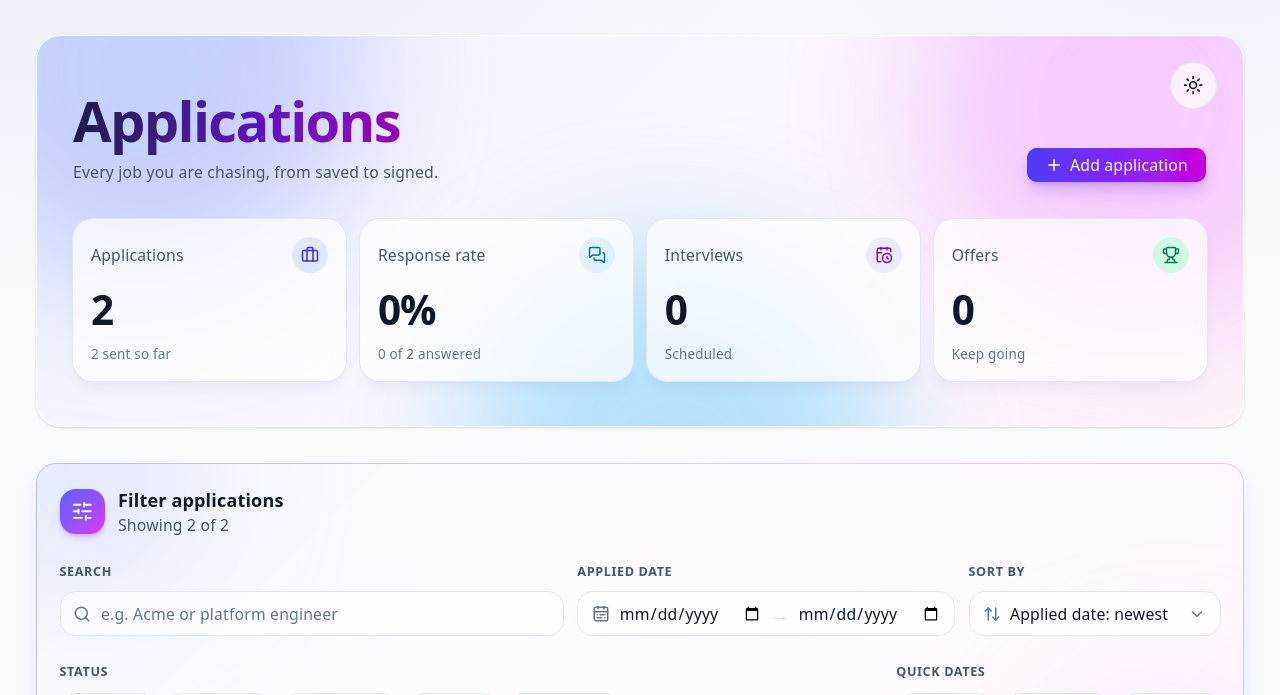
Test case: ApplicationsPage API integration › fills the add form from an offer link with AI and saves it
Click the button "Add application" at x=1117, y=165, box [1026,147,1207,183]
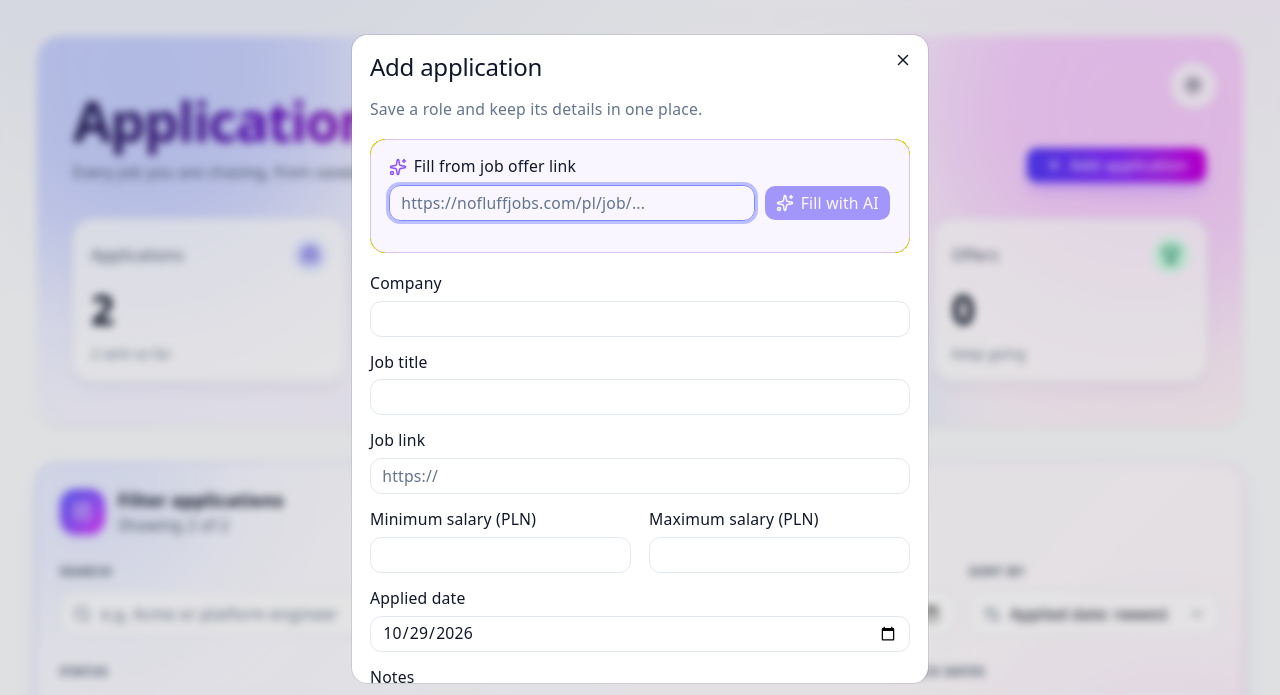
Type "https://jobs.example.com/box" into the field labelled "Fill from job offer link" at x=572, y=203, box [389,185,755,221]
Then press Enter
(page scrolled)
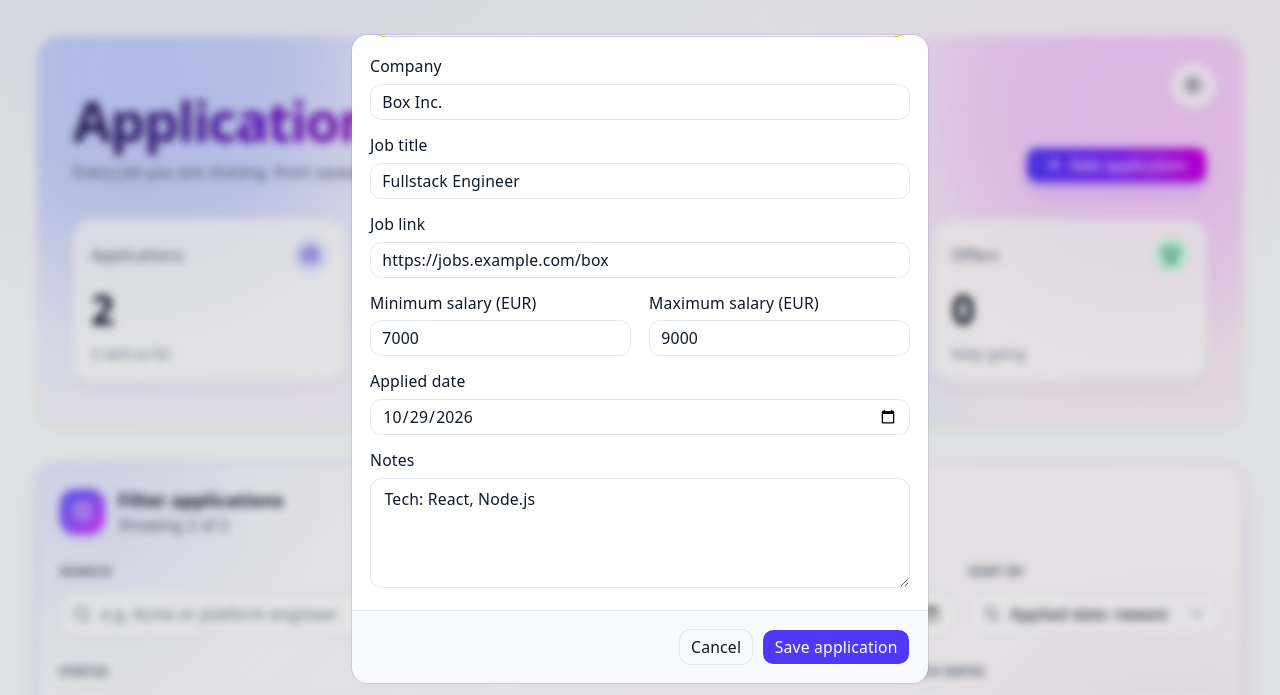
Expected: the field labelled "Company" holds "Box Inc.", [370,84,910,120]
Expected: the field labelled "Job title" holds "Fullstack Engineer", [370,163,910,199]
Expected: the number field labelled "Minimum salary (EUR)" holds "7000", [370,320,631,356]
Click the button "Save application" at x=836, y=647, box [762,629,910,665]
(page scrolled)
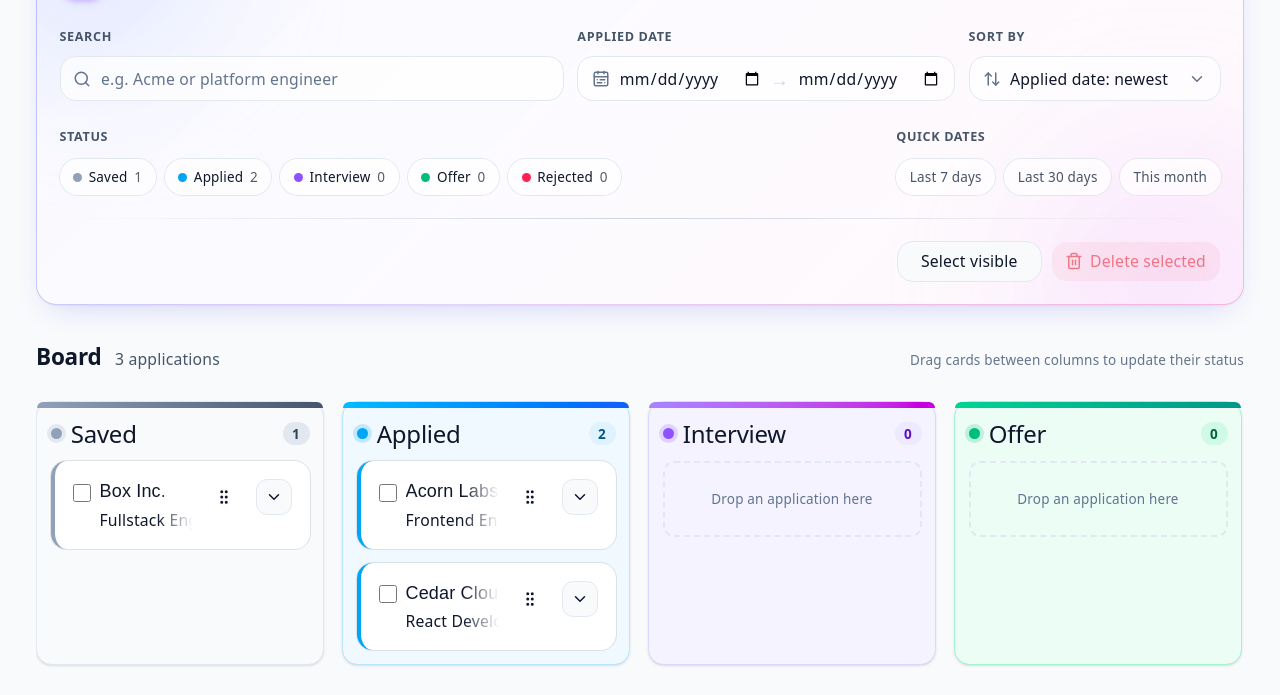
Expected: the text "Box Inc." is shown, [100,481,166,501]
